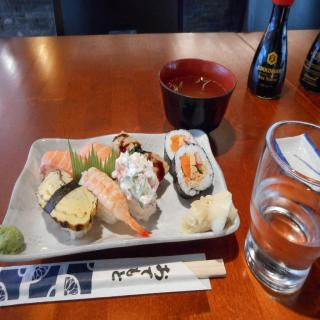Sushi: (35, 126, 211, 235), (170, 137, 215, 205)
